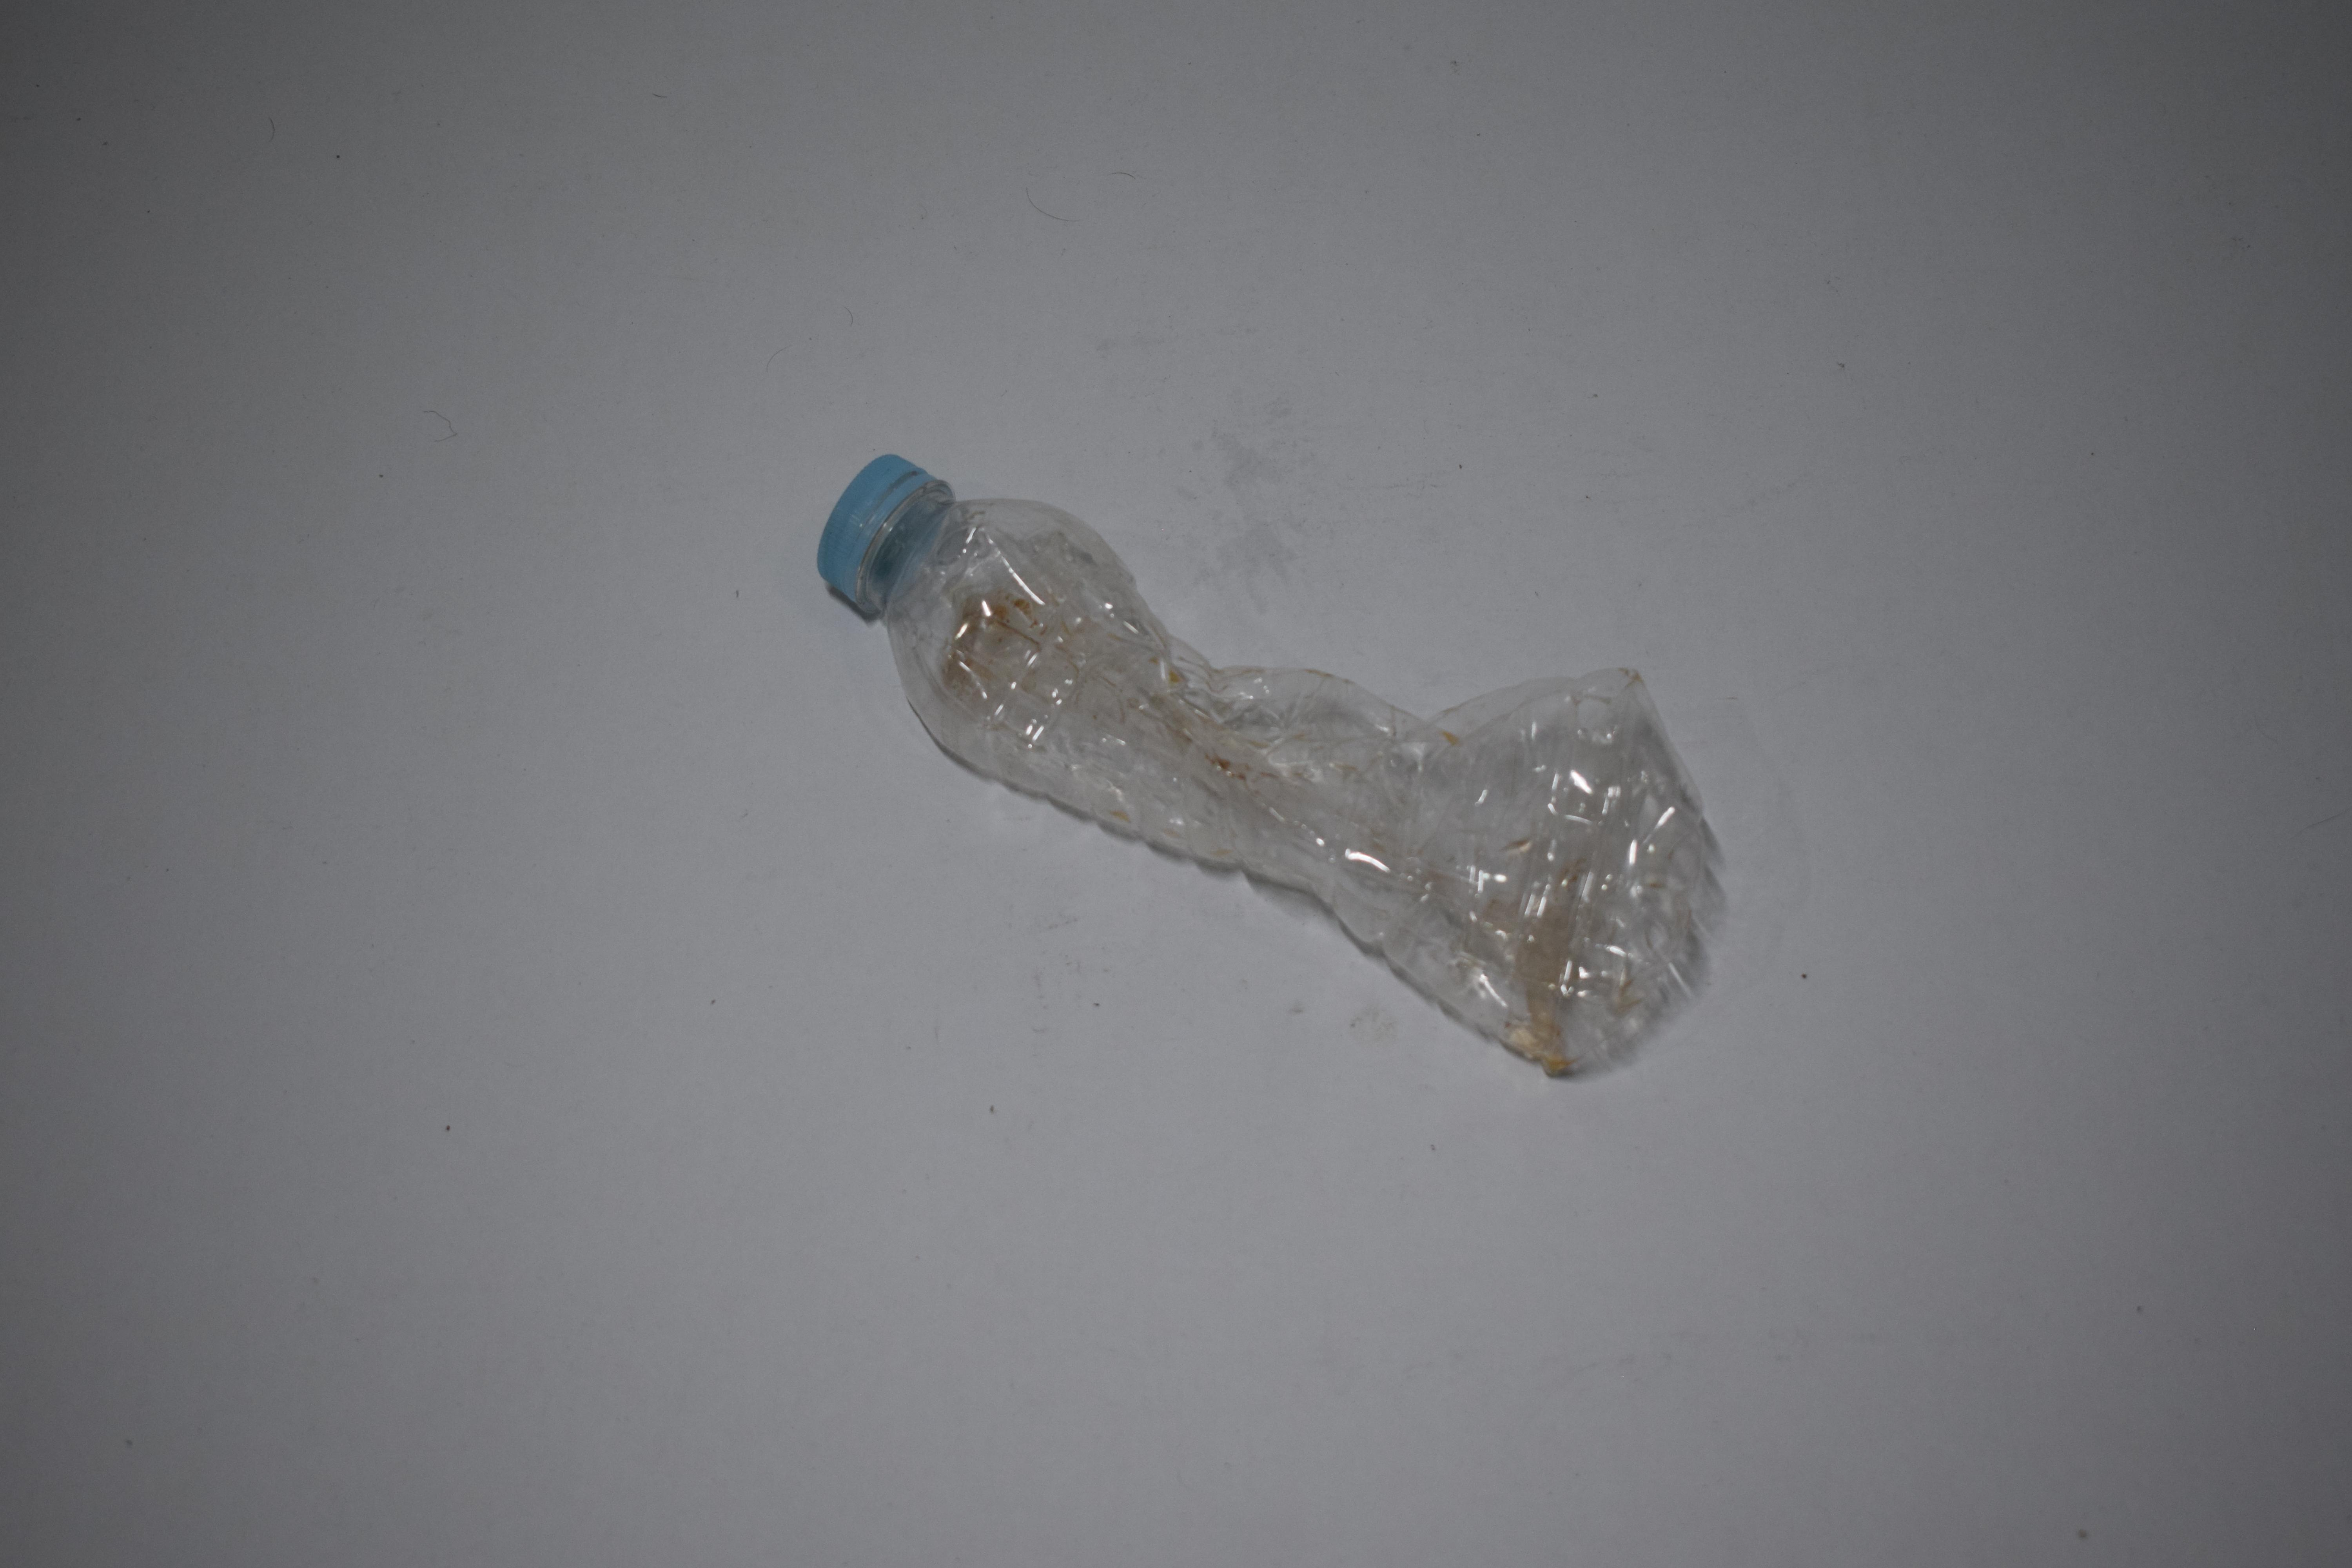bottle: (0, 448, 553, 1085)
